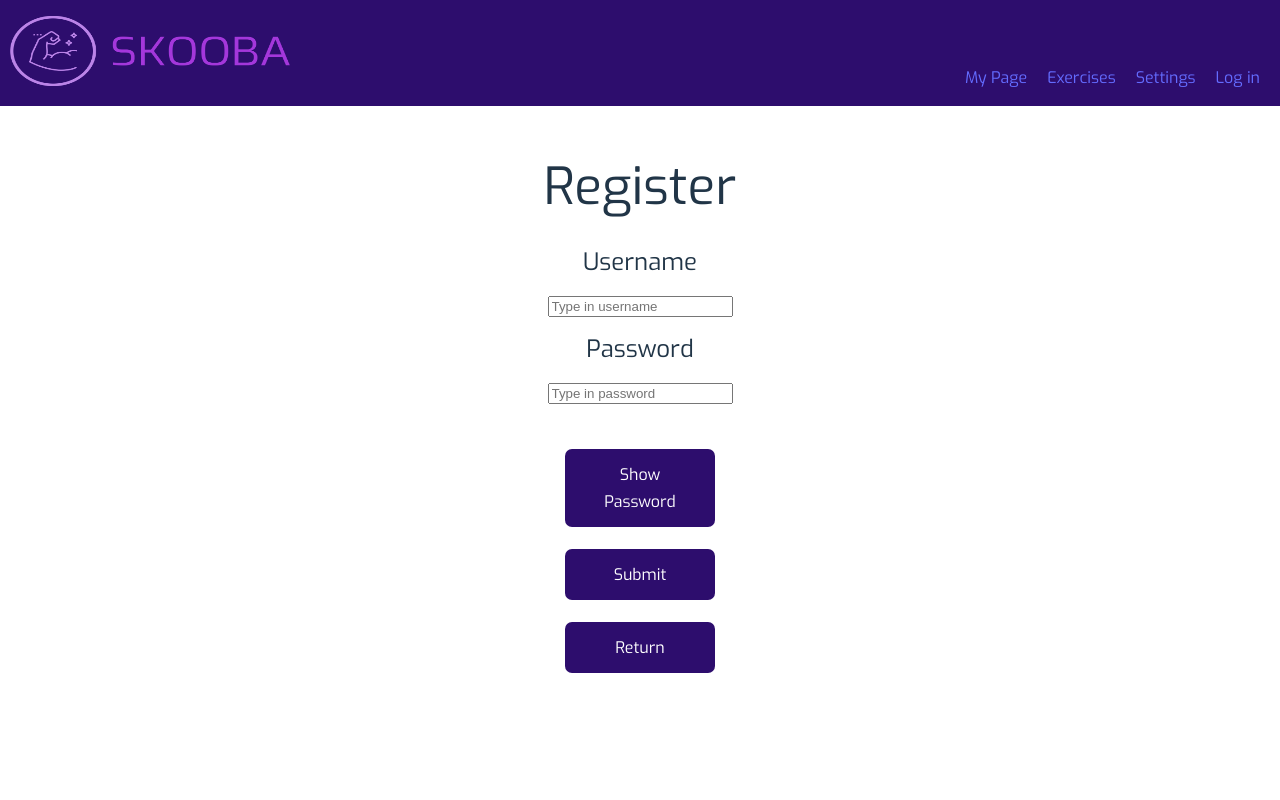
Test: Common register behaviour › Submit form wihtout value
Click the button "Submit" at (640, 575), box [565, 549, 715, 600]
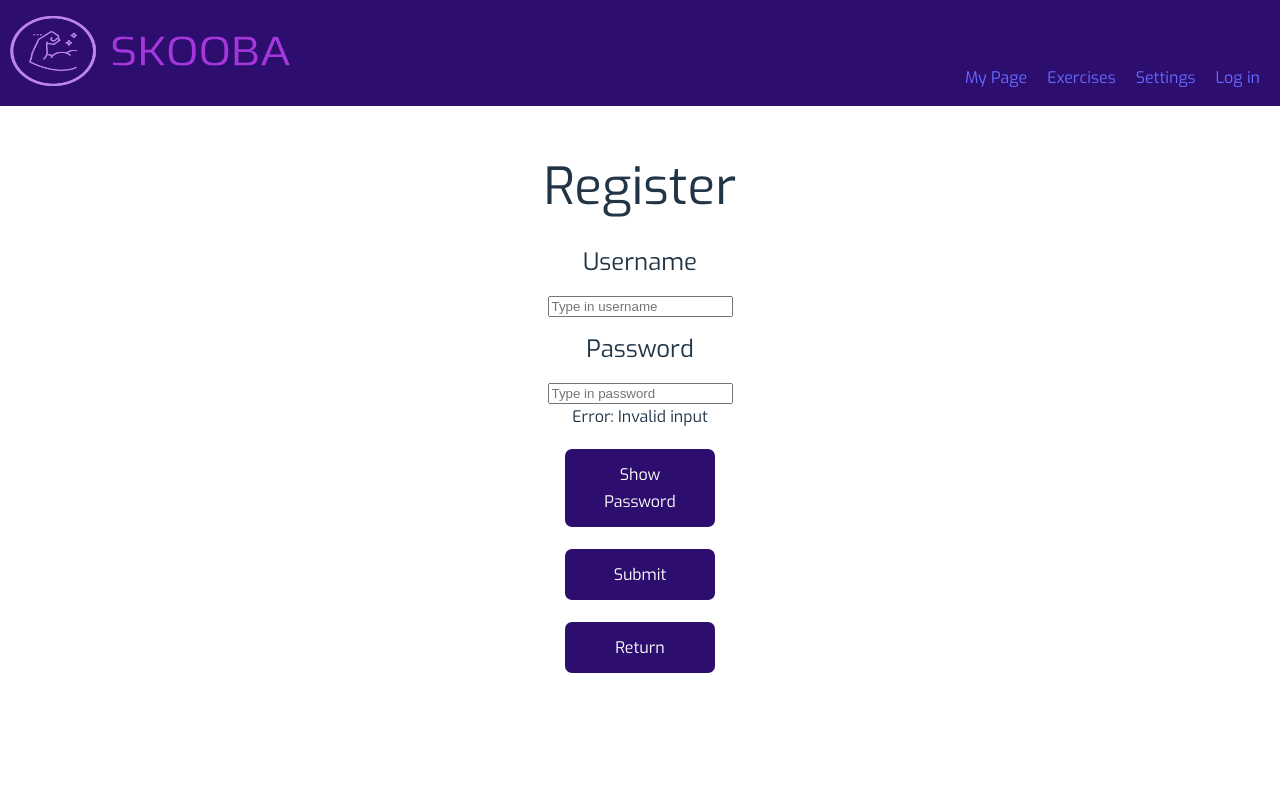
Check: the heading "Register" is shown, box [544, 159, 736, 215]
Check: the text "Error: Invalid input" is shown, box [572, 406, 708, 427]
